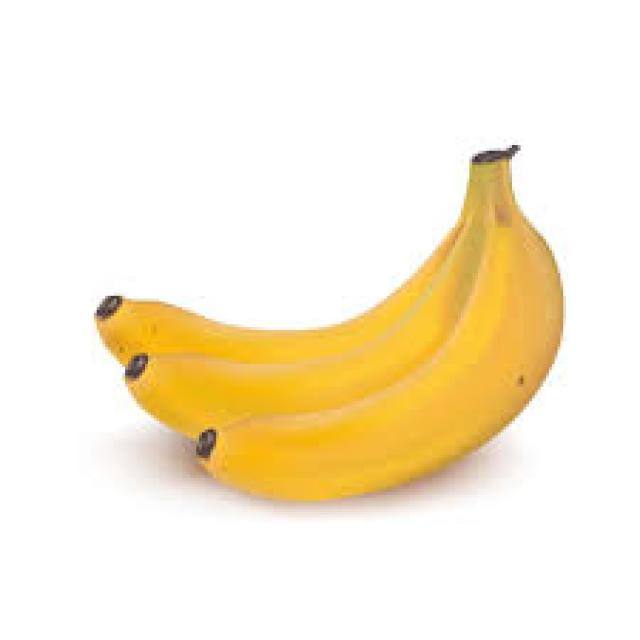Banana: (200, 160, 562, 499), (130, 218, 489, 418)
